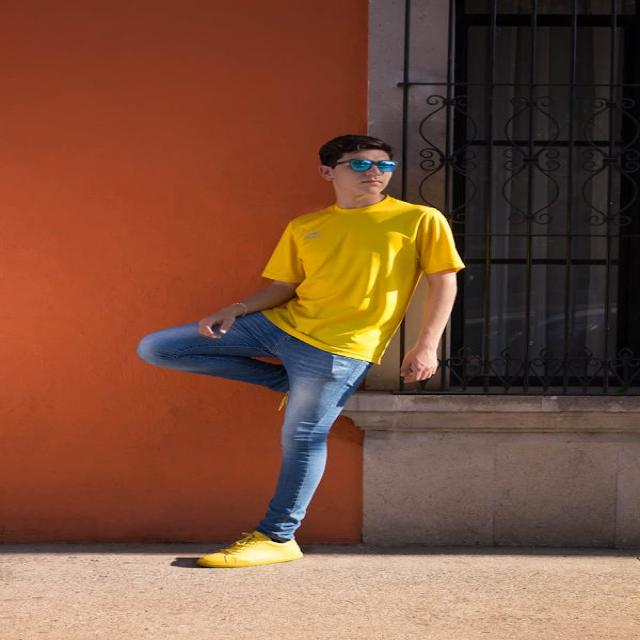Real human 2: (131, 120, 473, 576)
